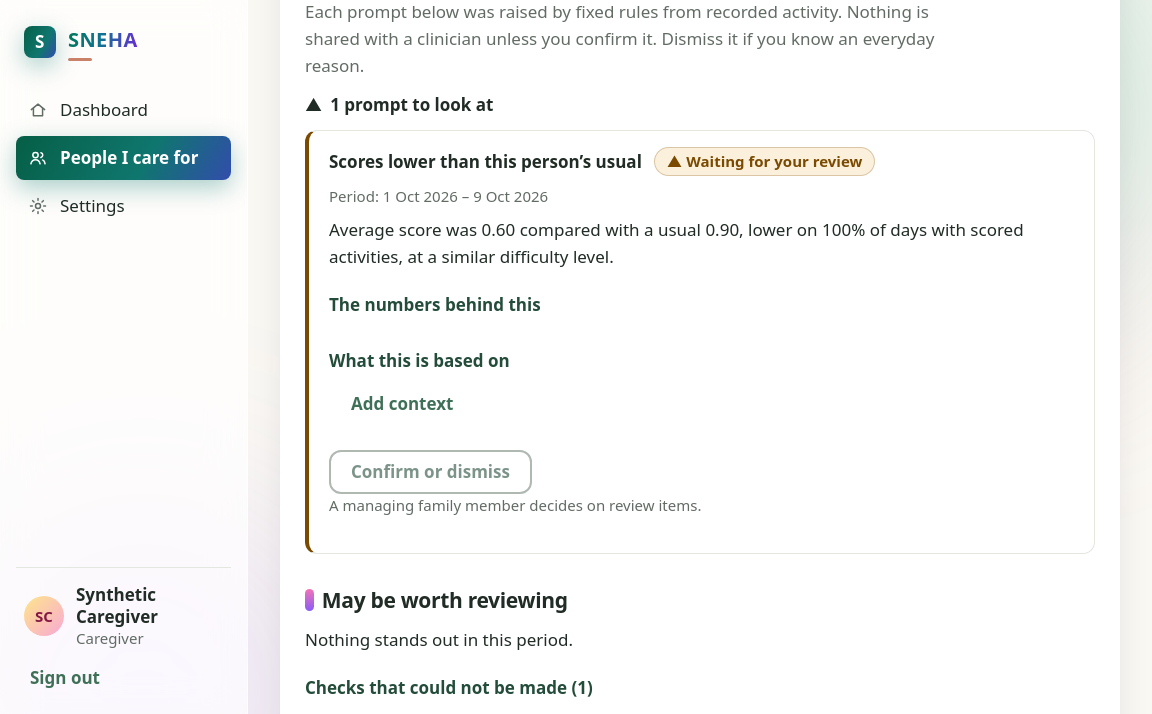
Test: caregiver analytics (Part 5) › shows what a review item is based on and lets a caregiver add context
The width and height of the screenshot is (1152, 714).
(page scrolled)
Click the heading "What this is based on" at (419, 360), box [329,349,510,372]
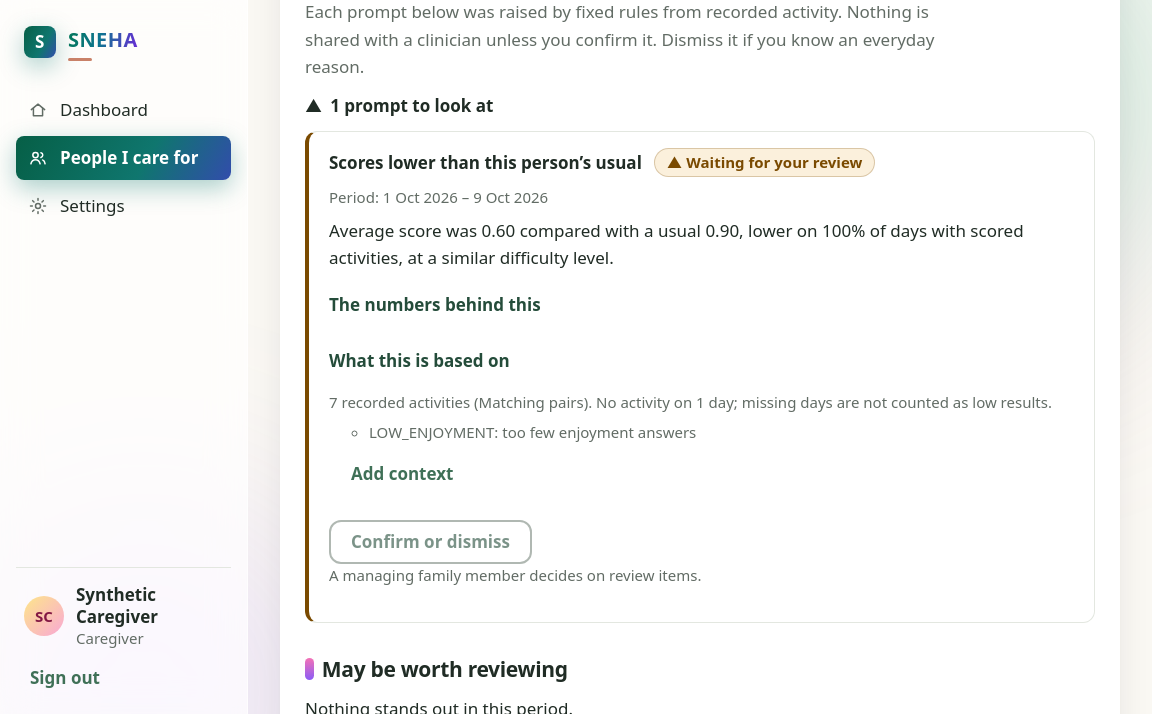
Check: the text "7 recorded activities (Matching pairs)" is shown, box [329,390,1074,413]
Check: the list item "LOW_ENJOYMENT: too few enjoyment answers" is shown, box [369,422,696,442]
Click the button with aria-label "Add context: " at (402, 473), box [329,451,475,495]
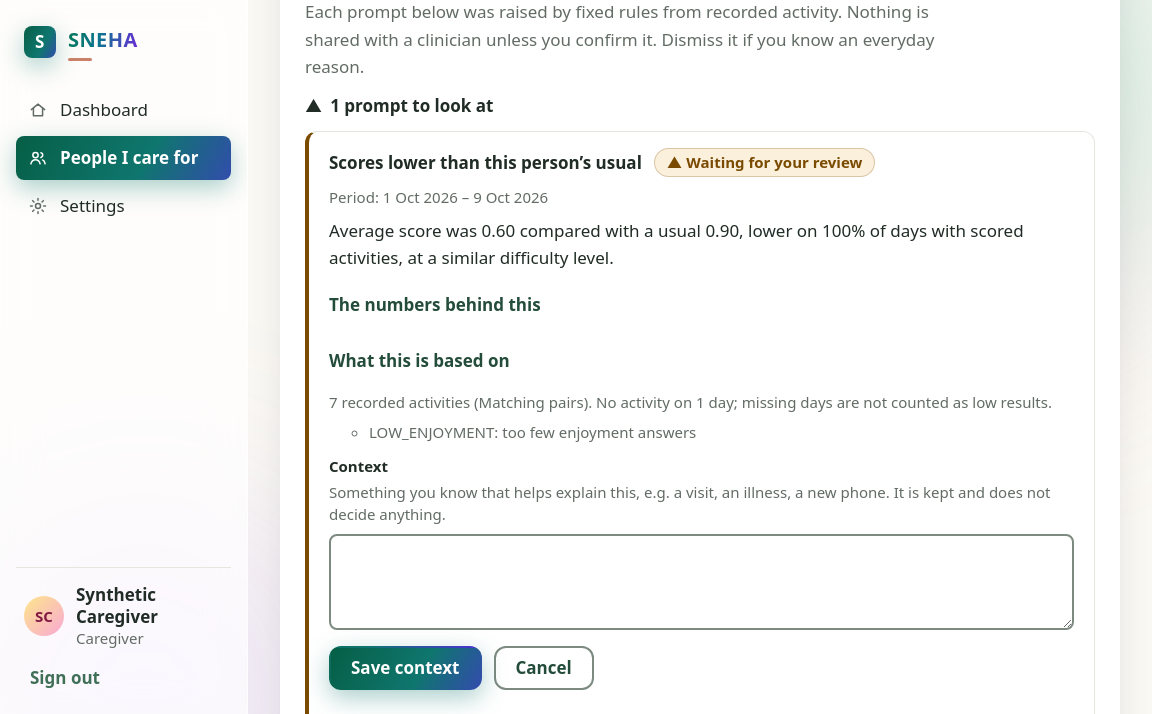
Type "Synthetic: relatives visiting" into the text box labelled "Context" at (702, 581), box [329,533,1074,629]
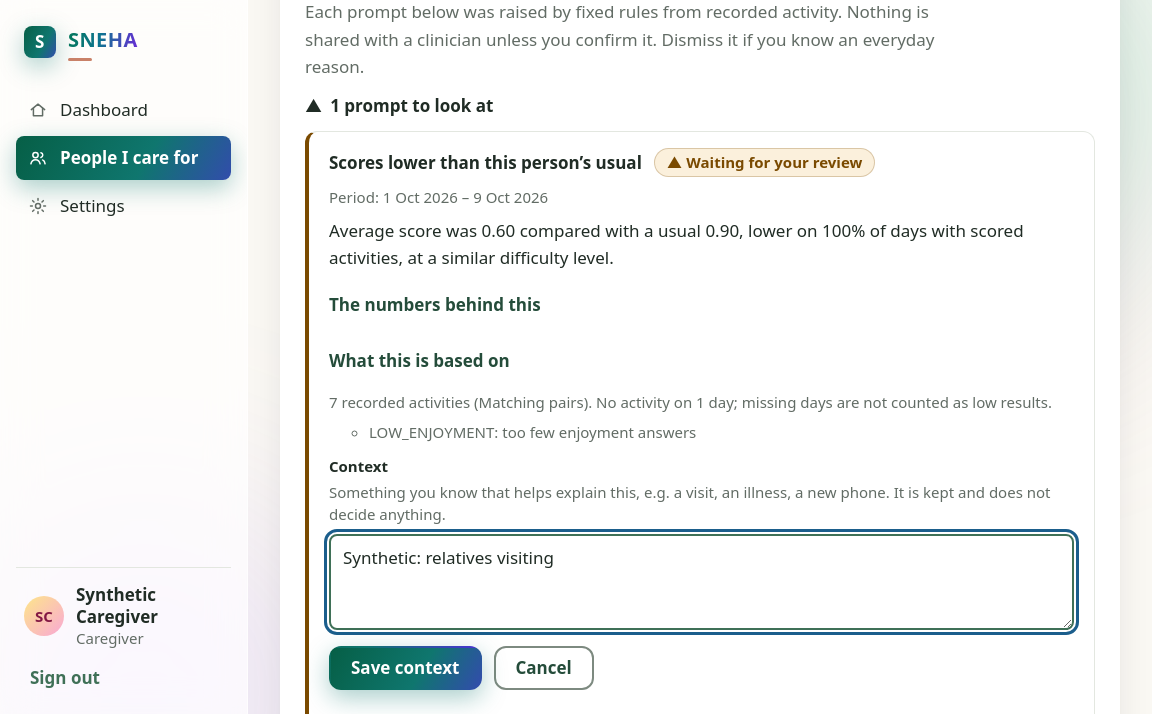
Click the button "Save context" at (405, 667), box [329,645,482,689]
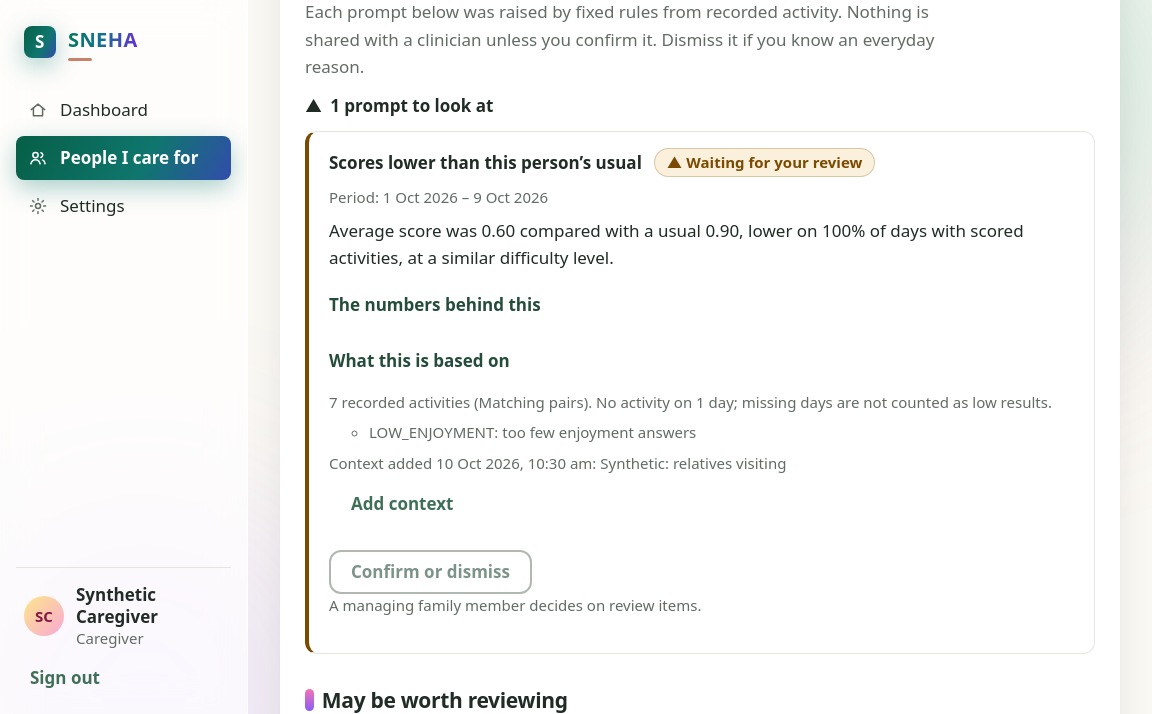
Check: the text "A managing family member decides on review items." is shown, box [329,594,701,616]
Check: the list item that starts with "Context added" is shown, box [329,452,786,472]
